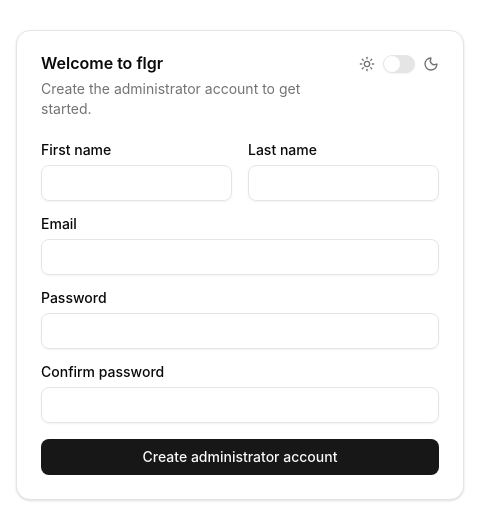
Test case: SetupWizardPage › shows an error when the passwords do not match
This screenshot has width=481, height=532.
Type "Ada" into the field labelled "First name" at (136, 183), box [41,165,232,201]
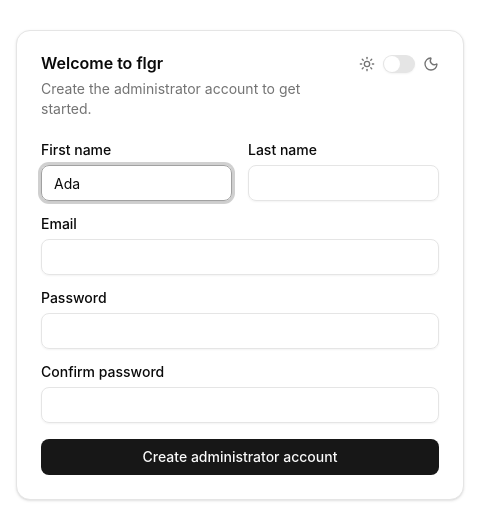
Type "Lovelace" into the field labelled "Last name" at (344, 183), box [248,165,439,201]
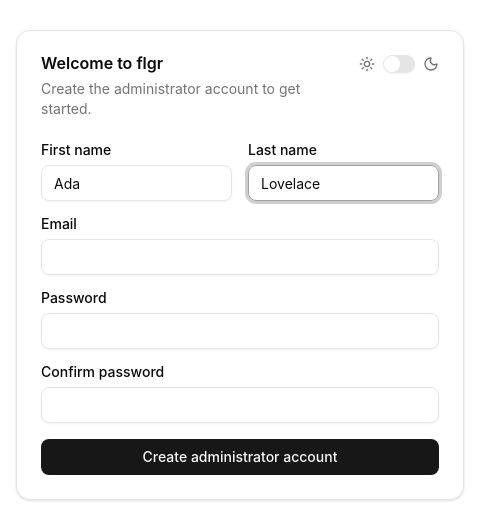
Type "ada@example.com" into the field labelled "Email" at (240, 257), box [41,239,439,275]
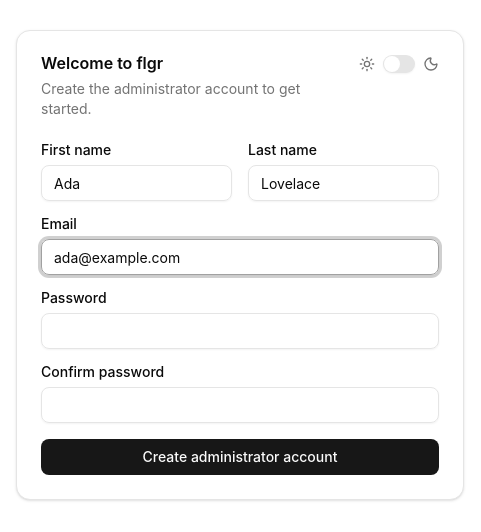
Type "supersecret" into the password field labelled "Password" at (240, 331), box [41,313,439,349]
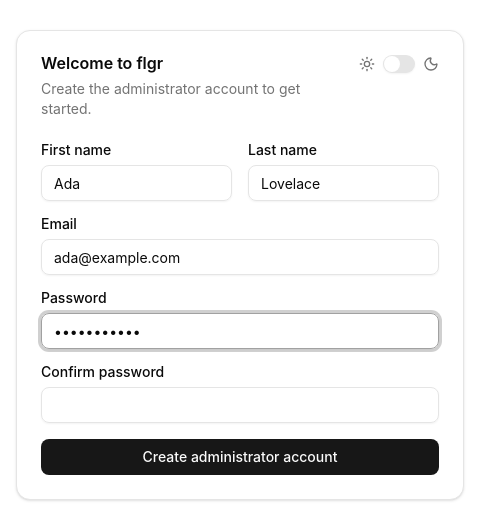
Type "different" into the password field labelled "Confirm password" at (240, 405), box [41,387,439,423]
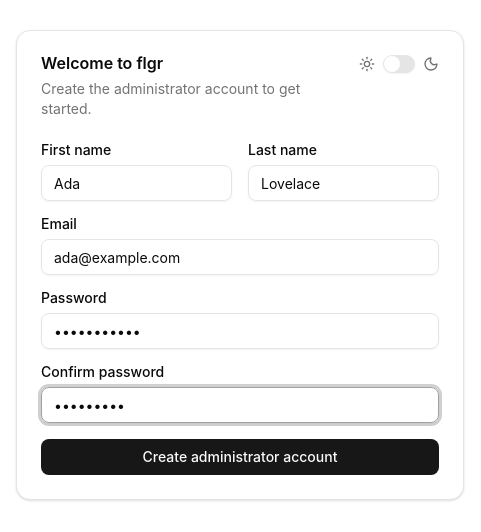
Click the button "Create administrator account" at (240, 457), box [41,439,439,475]
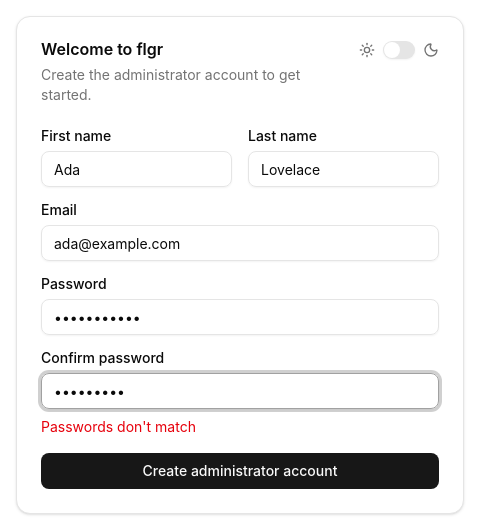
Check: the text "Passwords don't match" is shown, box [41,418,196,435]
